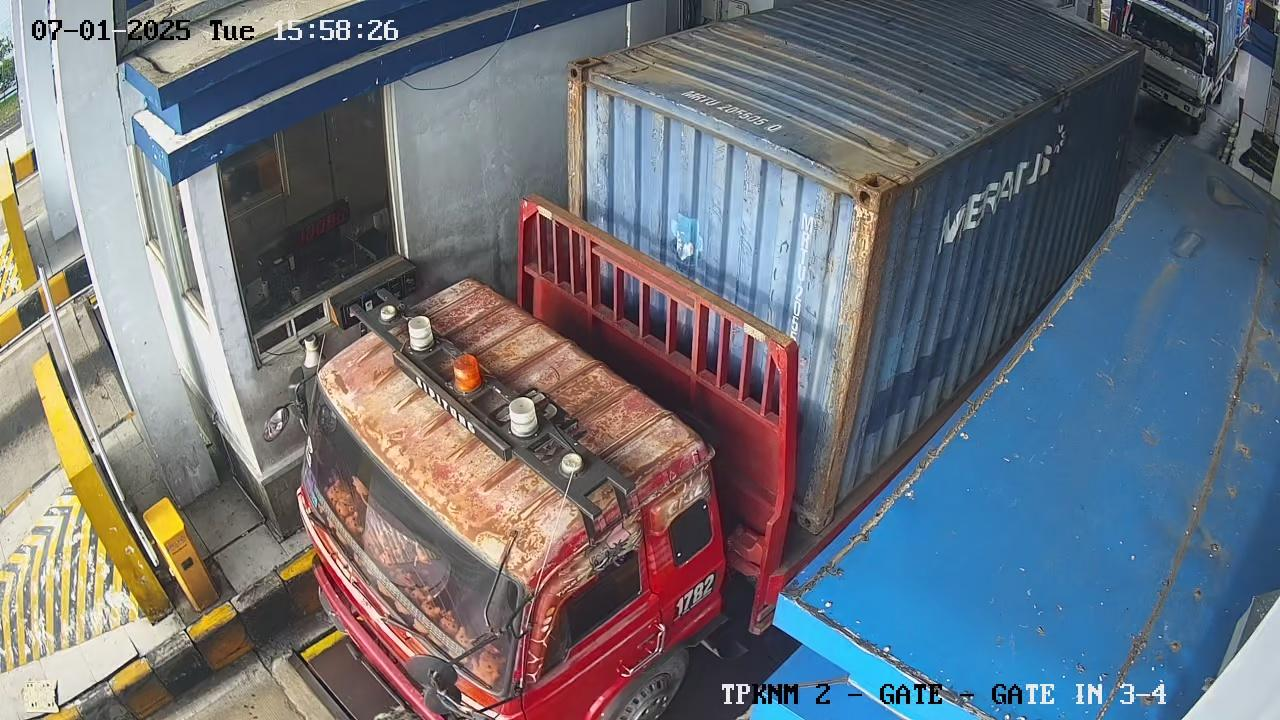Container_ID: (672, 85, 783, 142)
Container_ID_Vertikal: (780, 185, 827, 343)
truck_id: (673, 573, 719, 620)
